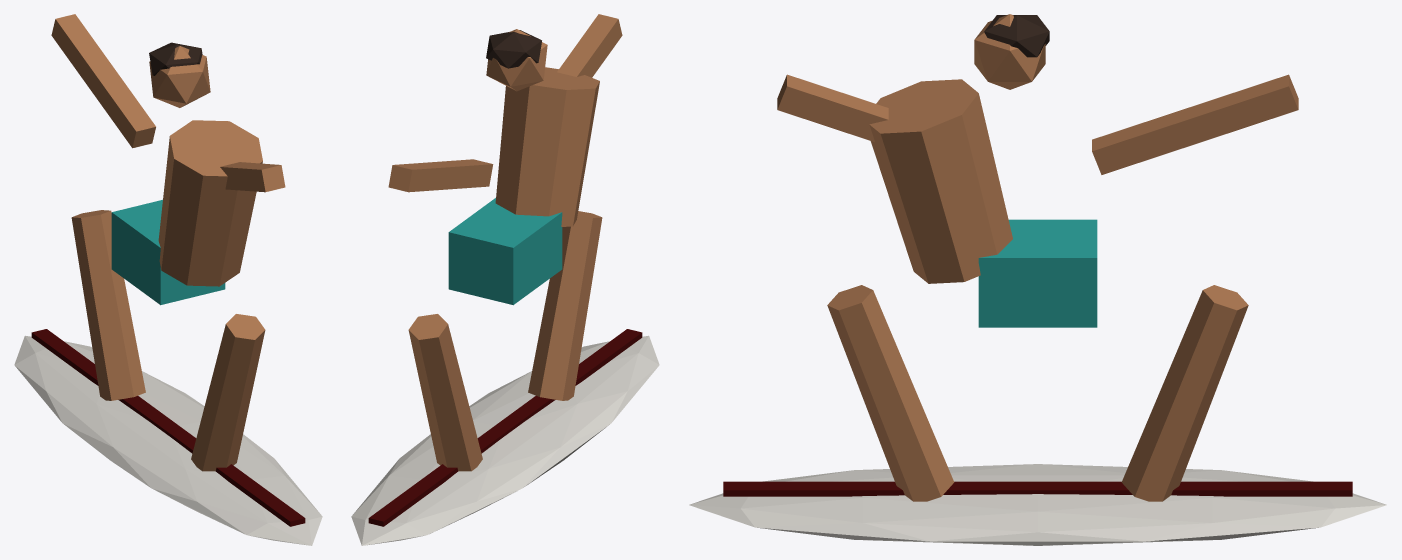
File: Surfer_Far.glb
The picture shows the model from 3 angles, left to right: view 1: azimuth 30°, elevation 25°; view 2: azimuth 150°, elevation 25°; view 3: azimuth 270°, elevation 25°; orthographic projection. The views are drawn at different scales.
Parts seen in each view (by area): view 1: Surfer_Far; view 2: Surfer_Far; view 3: Surfer_Far.
Boxes of the visible parts, <box> form: Surfer_Far: <box>14,14,322,545</box>; Surfer_Far: <box>351,14,659,545</box>; Surfer_Far: <box>689,14,1386,545</box>.
Size of the model in its own units: 0.4946 by 1.6 by 2.
